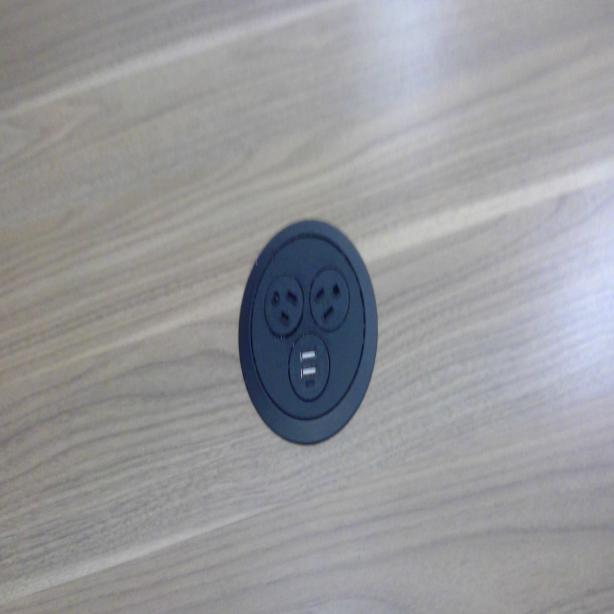typeb: (262, 278, 302, 336), (310, 268, 350, 324)
